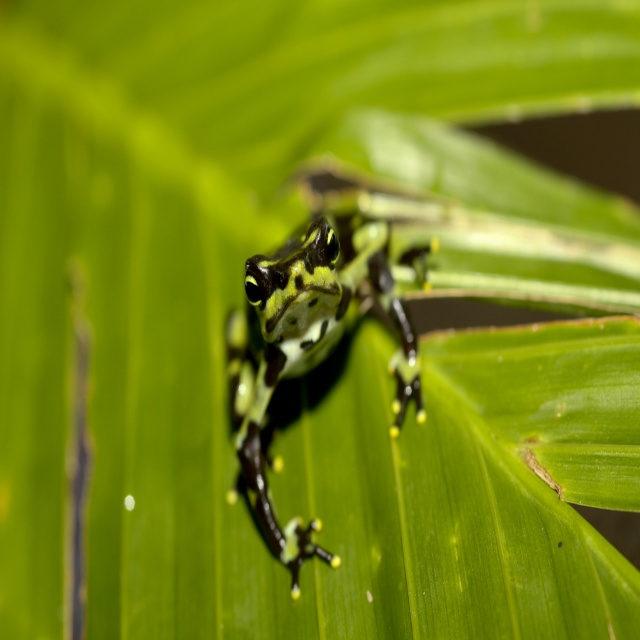Frog: (227, 213, 440, 602)
